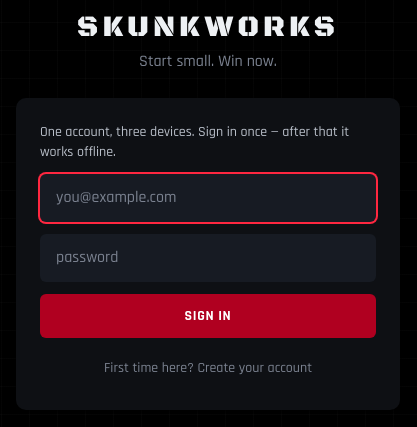
it: SignIn › can toggle back to sign-in mode
This screenshot has width=417, height=427.
Click the button "First time here? Create your account". click: (208,368)
box: [40,350,376,386]
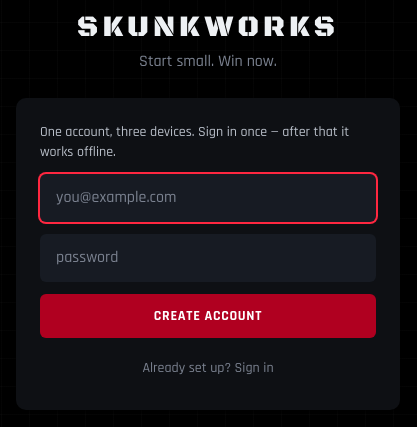
Click the button "Already set up? Sign in". click: (208,368)
box: [40,350,376,386]
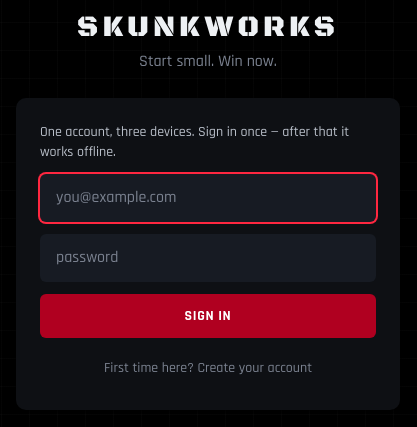
Expected: the button "Sign in" is shown, [40,294,376,338]
